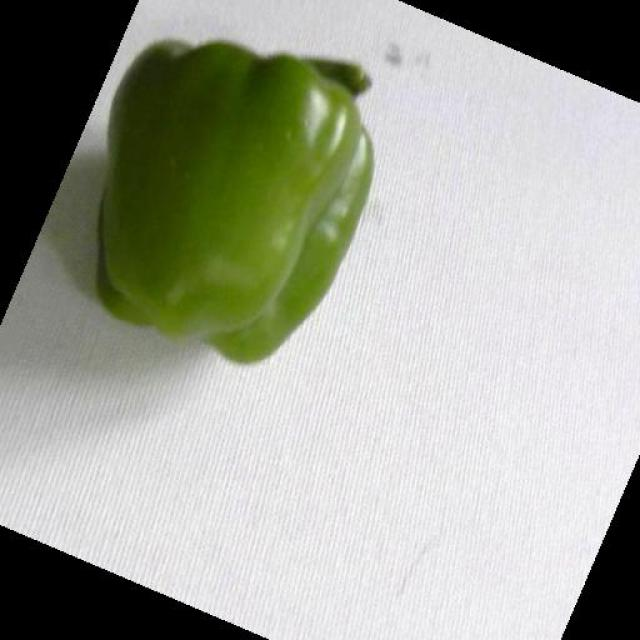Fresh_Capsicum: (112, 43, 358, 335)
